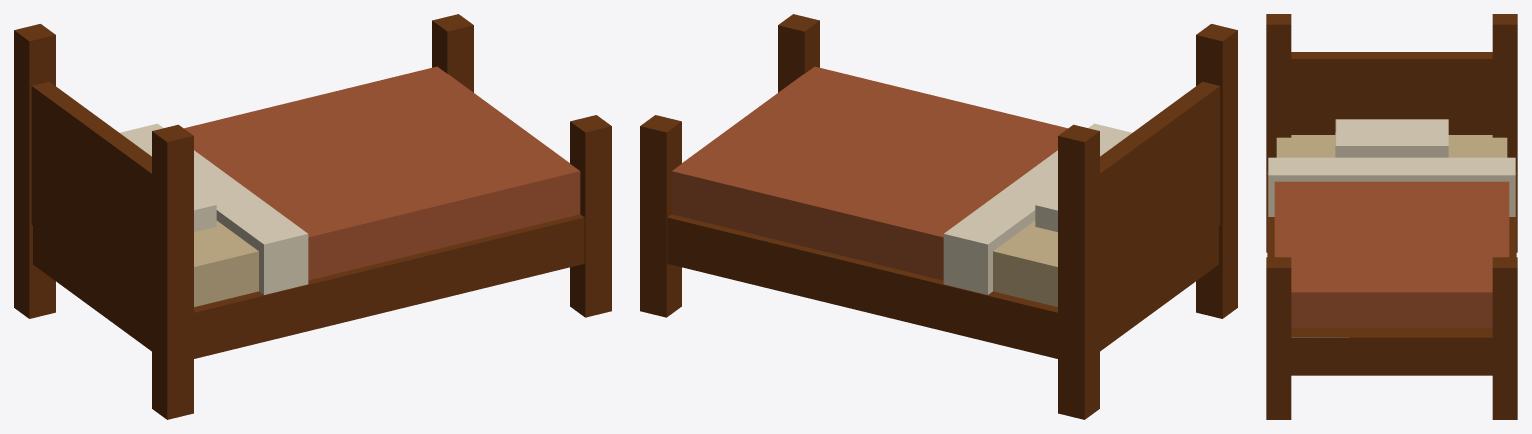
File: bed1_wood.glb
3 renders of one model, left to right at view 1: azimuth 30°, elevation 25°; view 2: azimuth 150°, elevation 25°; view 3: azimuth 270°, elevation 25°, orthographic. The views are drawn at different scales.
Parts seen in each view (by area): view 1: Object007; view 2: Object007; view 3: Object007.
Part boxes in pixels (x1,y1,x2,y2): Object007: [14, 14, 611, 419]; Object007: [640, 14, 1237, 419]; Object007: [1266, 14, 1517, 419].
Bounding box in the file's own units: 0.2011 × 0.12 × 0.12.
Materials: 1 (1 with a texture image).
